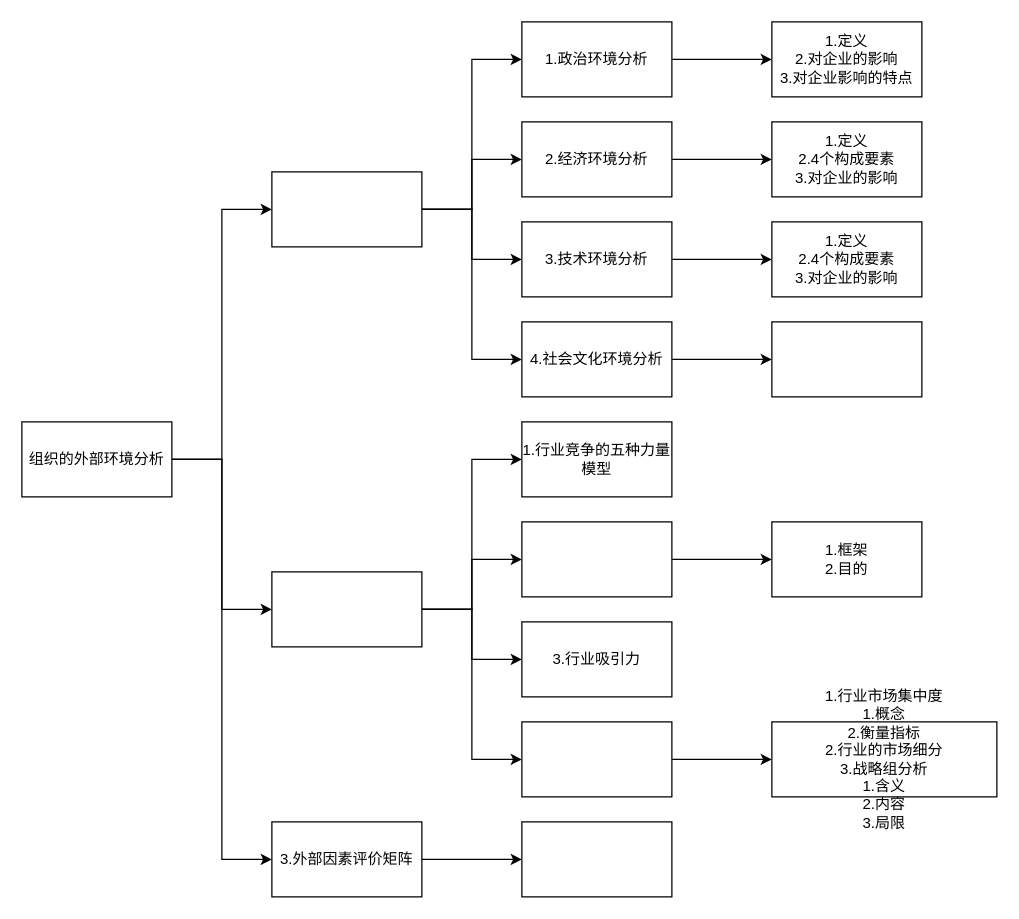
The diagram is 1019 pixels wide and 919 high, and some of its shapes have lost their labels. The centre of each missing label's shape, as x and y in pixels:
"1.定义 2.步骤 3.结果说明 4.注意事项" belongs at [596,859].
"1.社会环境 2.文化环境" belongs at [846,359].
"1.组织的宏观环境分析" belongs at [346,209].
"2.竞争对手的选择与分析" belongs at [596,559].
"2.组织的行业结构分析" belongs at [346,609].
"4.相关市场分析" belongs at [596,759].
